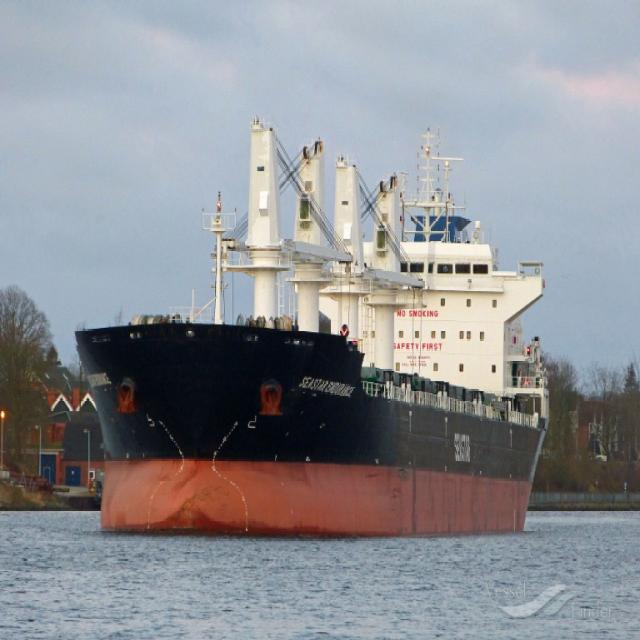OCR: (298, 366, 360, 398), (449, 424, 470, 466)
